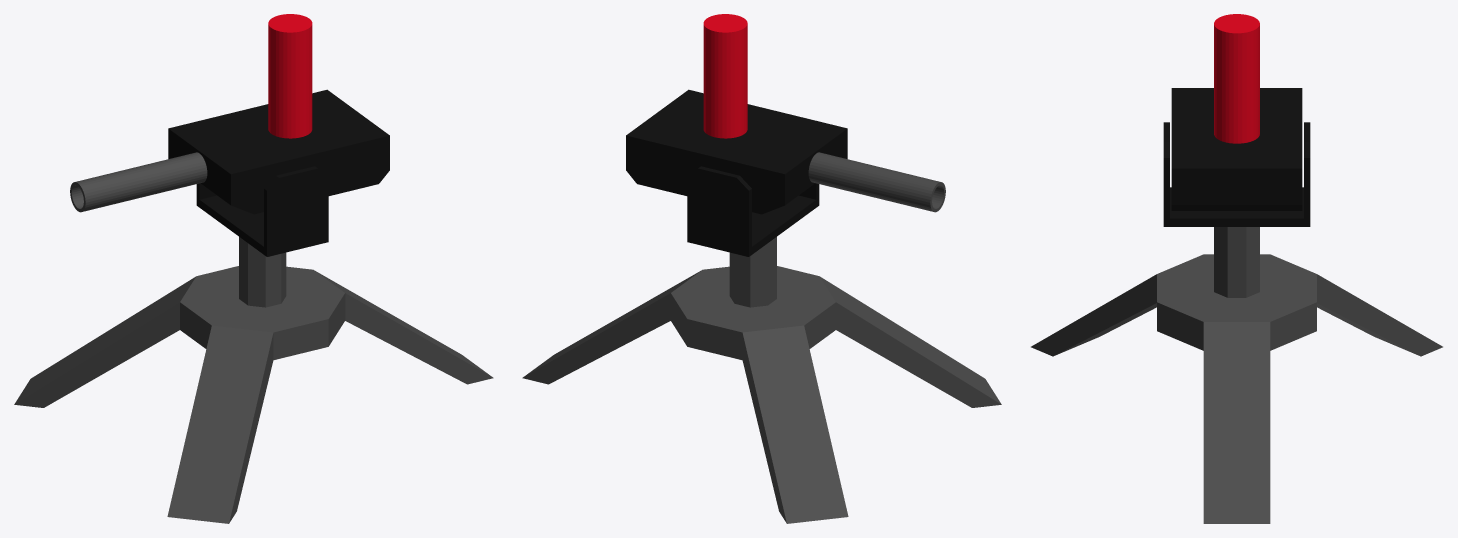
The model's file is Turret.fbx.
The picture shows the model from 3 angles, left to right: view 1: azimuth 30°, elevation 25°; view 2: azimuth 150°, elevation 25°; view 3: azimuth 270°, elevation 25°; orthographic projection. The views are drawn at different scales.
Visible parts, largest first — view 1: Cylinder, Cube; view 2: Cylinder, Cube; view 3: Cylinder, Cube.
Part boxes in pixels (x1,y1,x2,y2): Cylinder: [14, 237, 493, 523]; Cube: [70, 14, 389, 256]; Cylinder: [522, 237, 1001, 523]; Cube: [626, 14, 945, 256]; Cylinder: [1031, 227, 1442, 523]; Cube: [1163, 14, 1310, 226].
Size of the model in its own units: 555 by 515 by 476.
